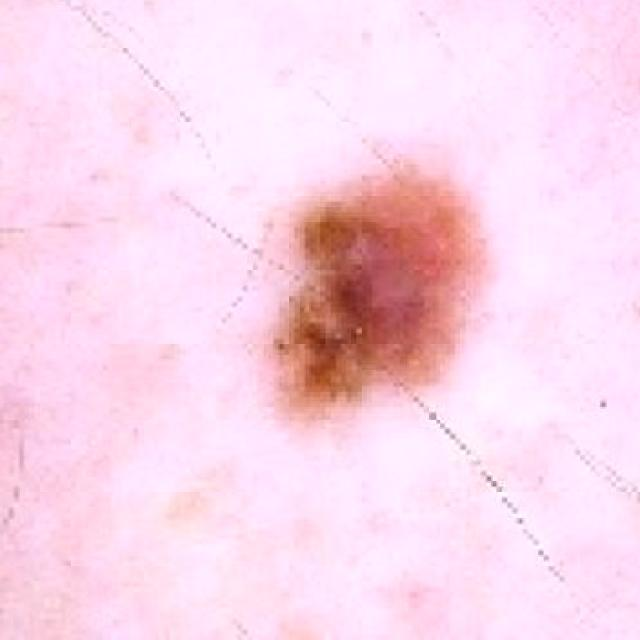MEL: (205, 118, 542, 500)
